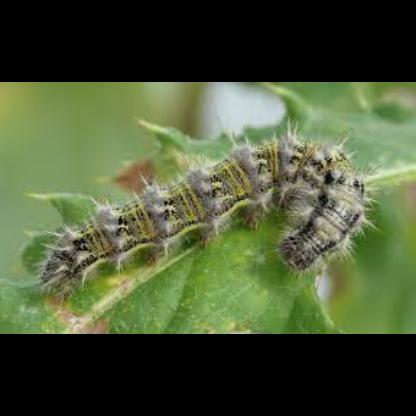oruga: (34, 137, 380, 303)
